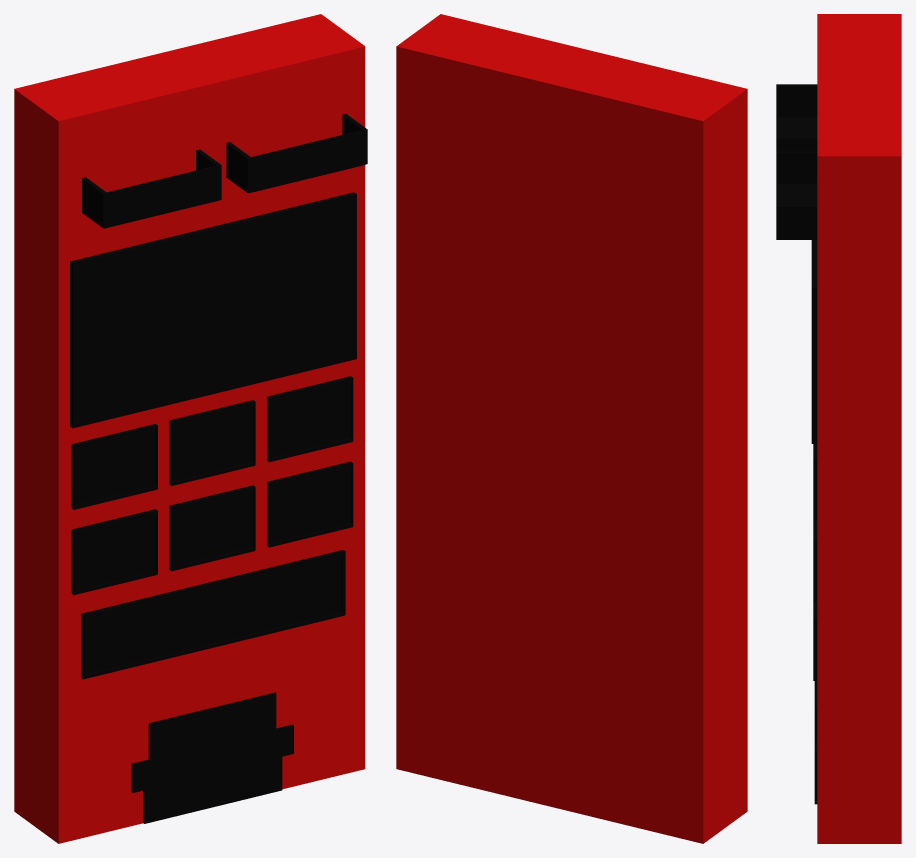
The model's file is commercial high pop small.fbx.
3 views of the same model, side by side, from view 1: azimuth 30°, elevation 25°; view 2: azimuth 150°, elevation 25°; view 3: azimuth 270°, elevation 25° (orthographic). The views are drawn at different scales.
Parts seen in each view (by area): view 1: polySurface12; view 2: polySurface12; view 3: polySurface12.
Part boxes in pixels (x1,y1,x2,y2): polySurface12: [14, 14, 367, 843]; polySurface12: [396, 14, 747, 843]; polySurface12: [776, 14, 901, 843].
Size of the model in its own units: 2000 by 4500 by 743.
